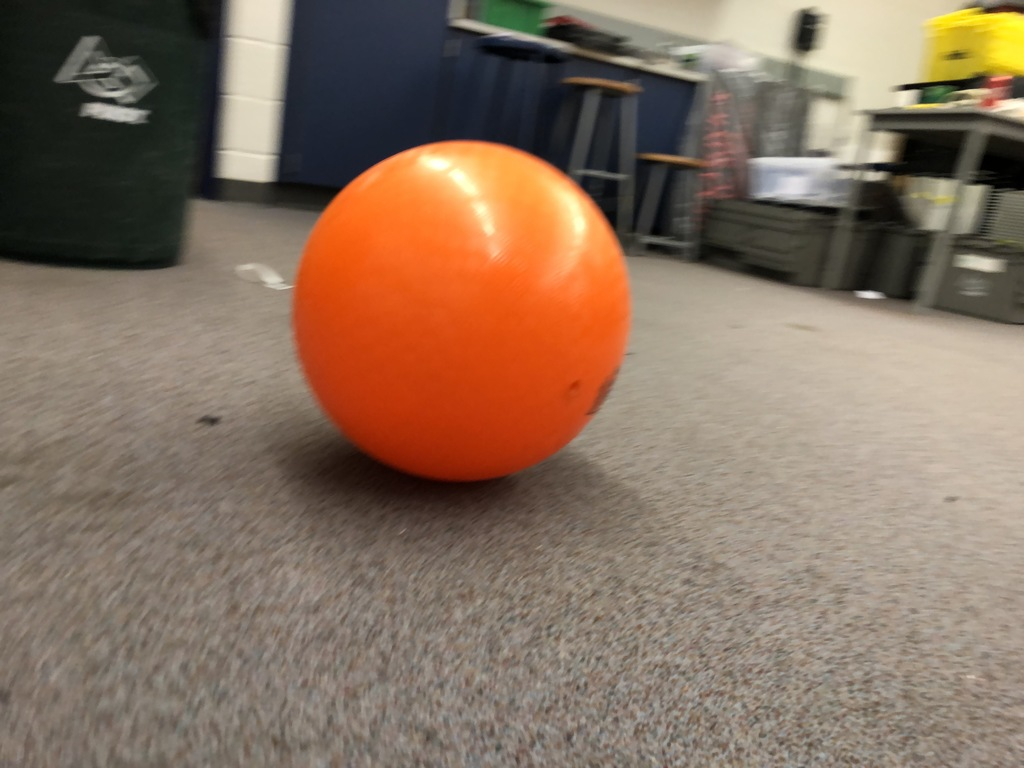cargo: (282, 131, 650, 488)
